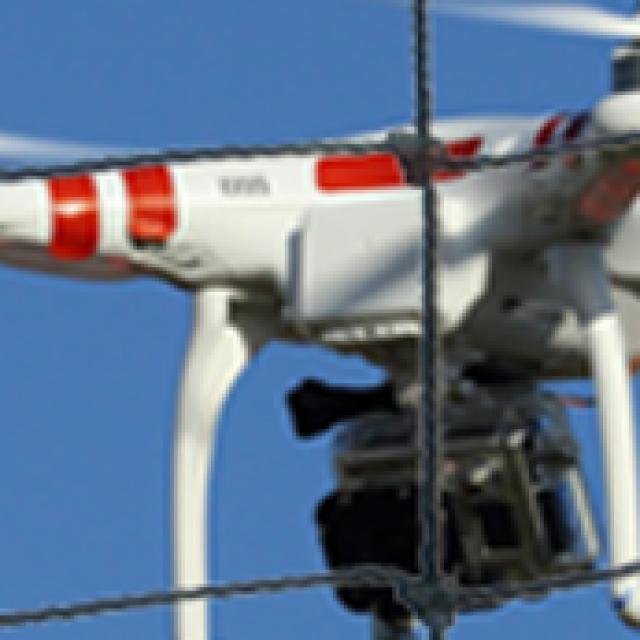drone: (0, 4, 640, 358)
